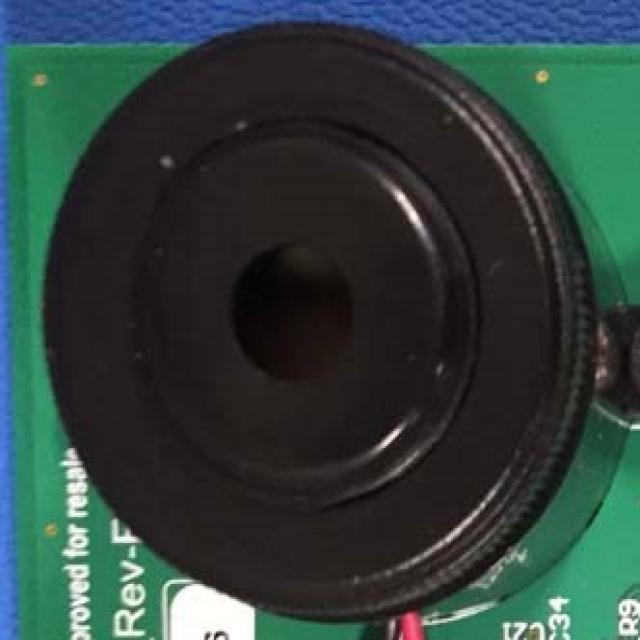buzzer: (39, 19, 640, 636)
